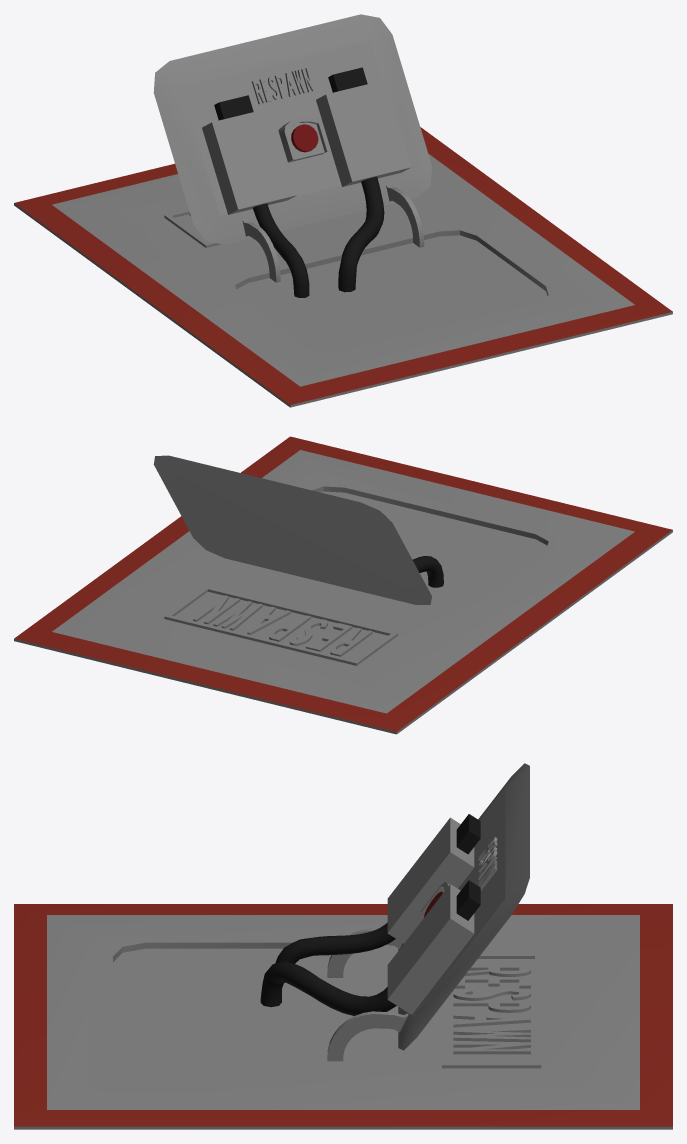
The model's file is GroundRespawnPort.fbx.
The picture shows the model from 3 angles, top to bottom: view 1: azimuth 30°, elevation 25°; view 2: azimuth 150°, elevation 25°; view 3: azimuth 270°, elevation 25°; orthographic projection. The views are drawn at different scales.
Visible parts, largest first — view 1: Base, Panel; view 2: Base, Panel; view 3: Base, Panel.
Boxes of the visible parts, x1,y1,x2,y2 form: Base: (14, 127, 672, 407); Panel: (153, 14, 431, 297); Base: (14, 436, 672, 734); Panel: (153, 455, 443, 604); Base: (14, 904, 672, 1129); Panel: (260, 763, 529, 1061).
Bounding box in the file's own units: 1.6 × 0.7704 × 2.
